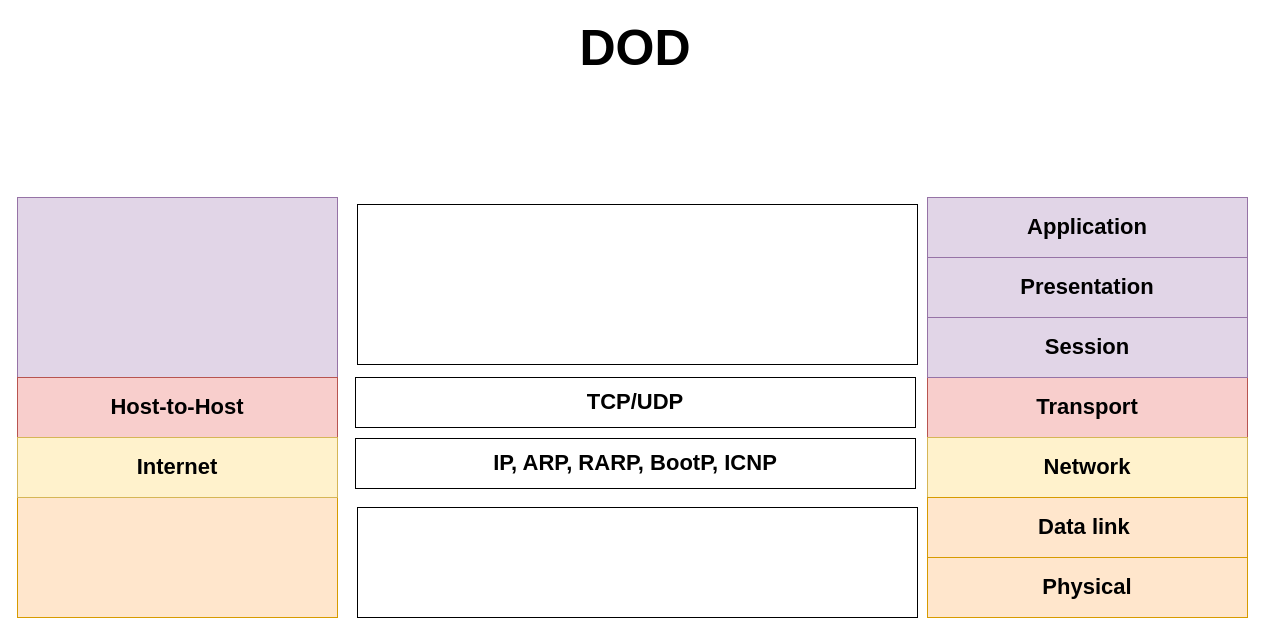
The diagram is 1265 pixels wide and 635 high, and some of its shapes have lost their labels. The centre of each missing label's shape, as x and y in pixels:
"Application/Processes" belongs at pixel 177 287.
"Ethernet" belongs at pixel 637 562.
"HTTP, HTTPS, FTP, SMTP, Telnet, DNS, DHCP etc." belongs at pixel 637 284.
"Physical/Network Access" belongs at pixel 177 557.
